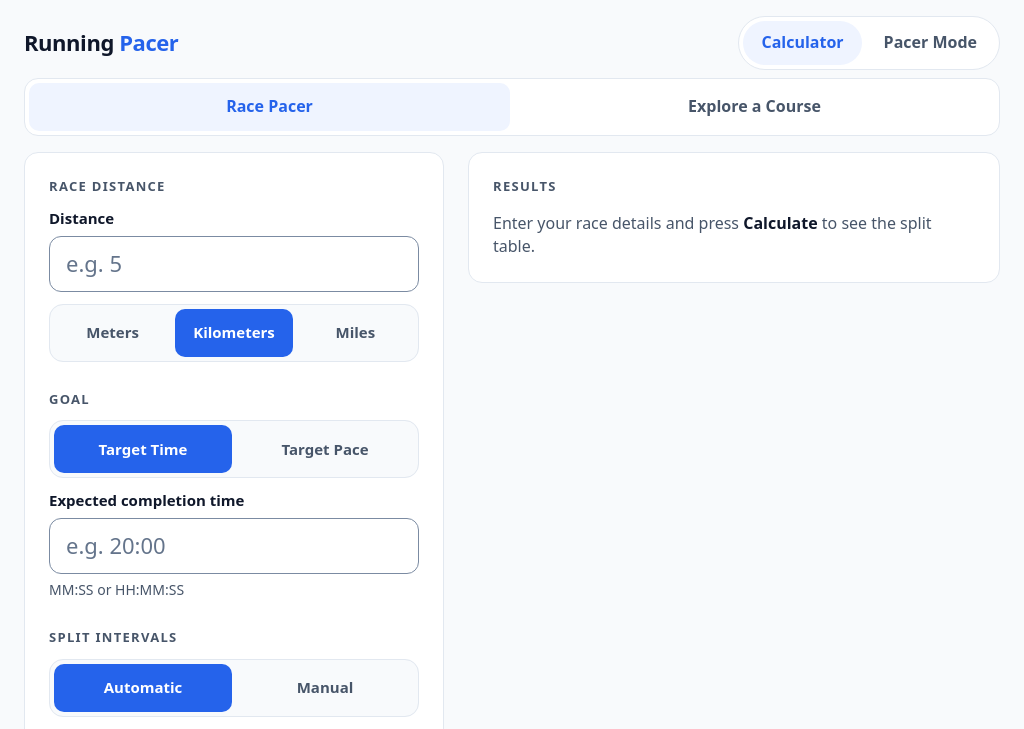
Test: opening Live Pacer › with no locations the finish is the only stop
Step 1. Type "5" into the field labelled "Distance" → (234, 264), box [49,236,419,292]
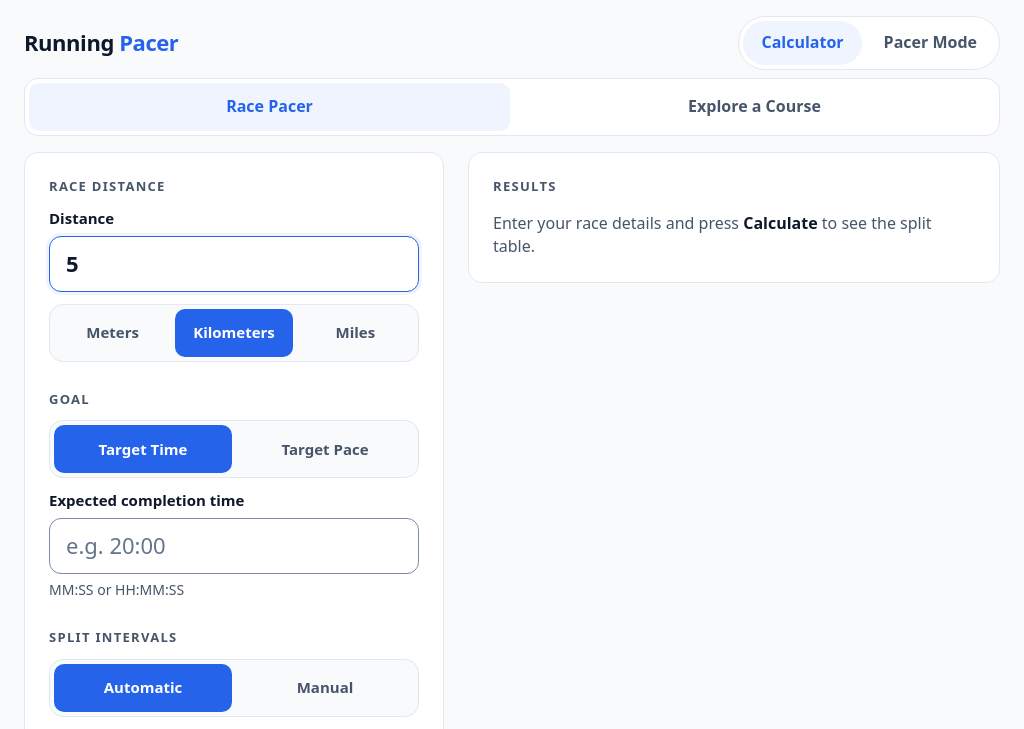
Step 2. Type "20:00" into the field labelled "Expected completion time" → (234, 546), box [49,518,419,574]
(page scrolled)
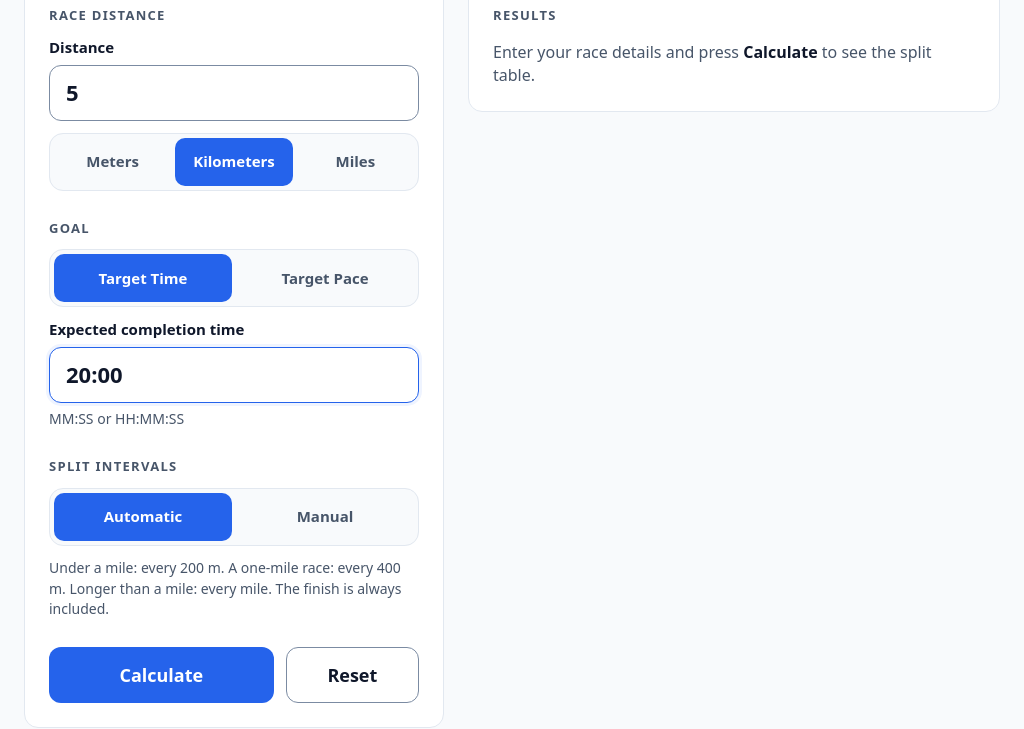
Step 3. Click the button "Calculate" → (161, 675), box [49,647,274,703]
(page scrolled)
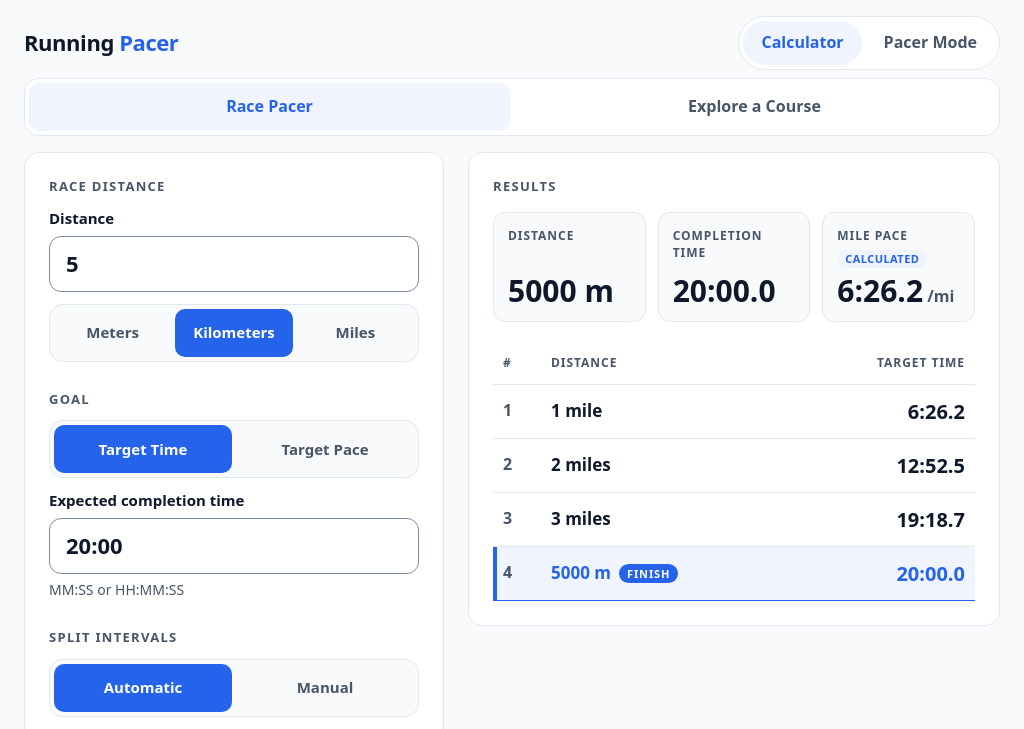
Step 4. Click the button "Pacer Mode" → (930, 43), box [866,21,995,65]
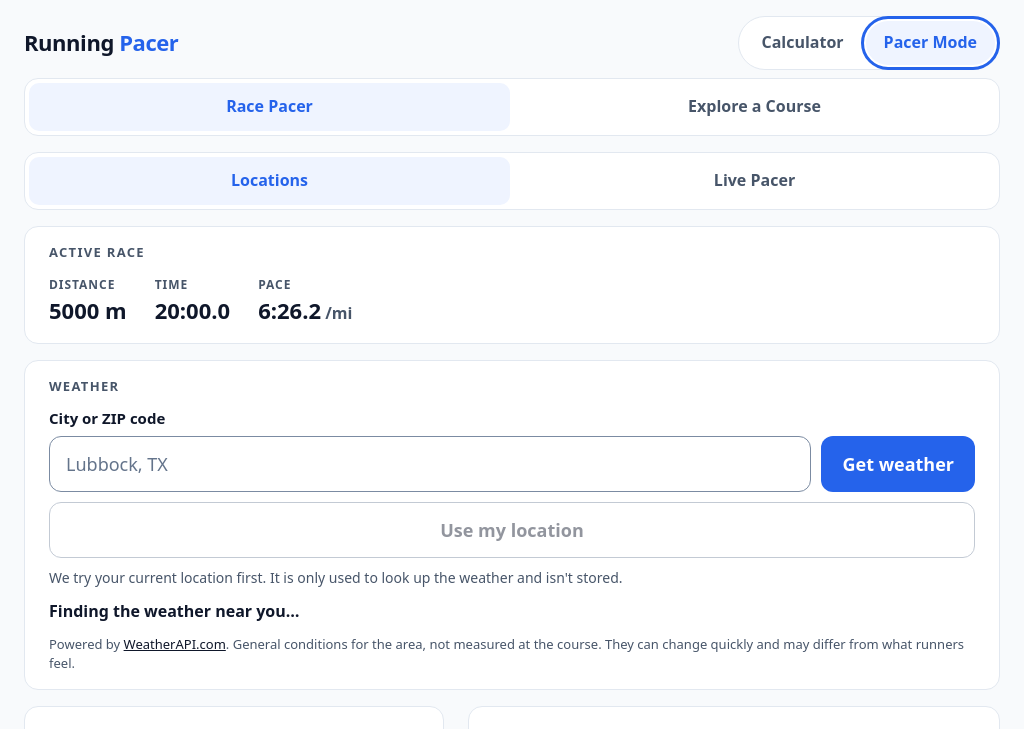
Step 5. Click the button "Live Pacer" → (754, 181), box [514,157,995,205]
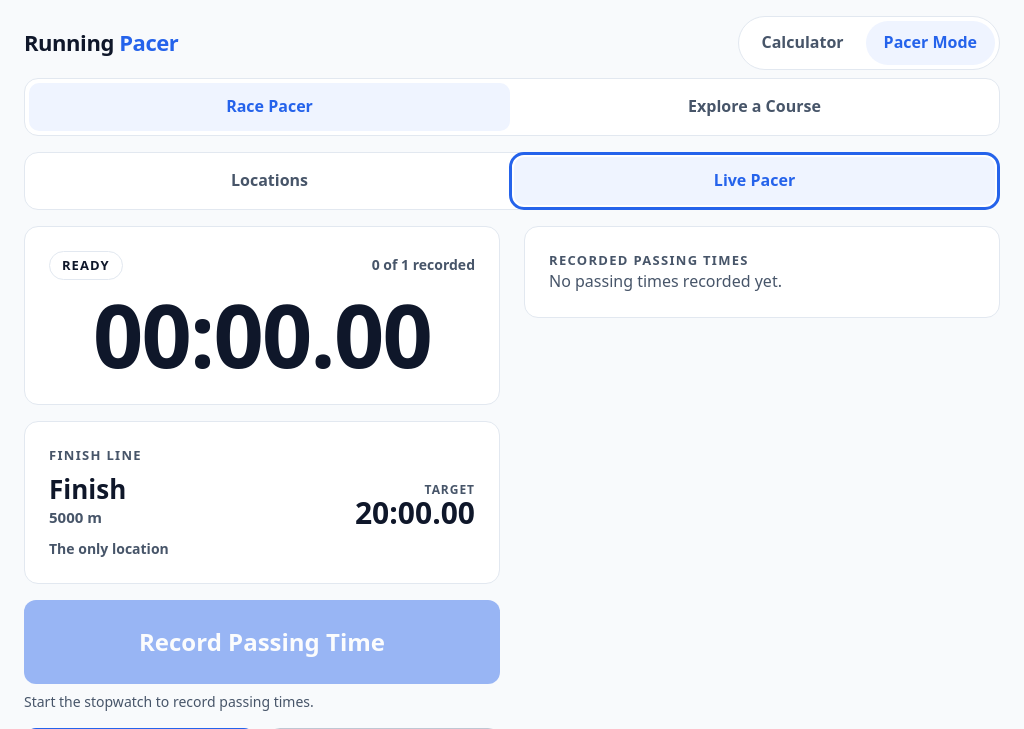
Result: the heading "Finish line" is shown at [49,446,142,464]
Result: the text "20:00.00" is shown at [355,492,475,533]
